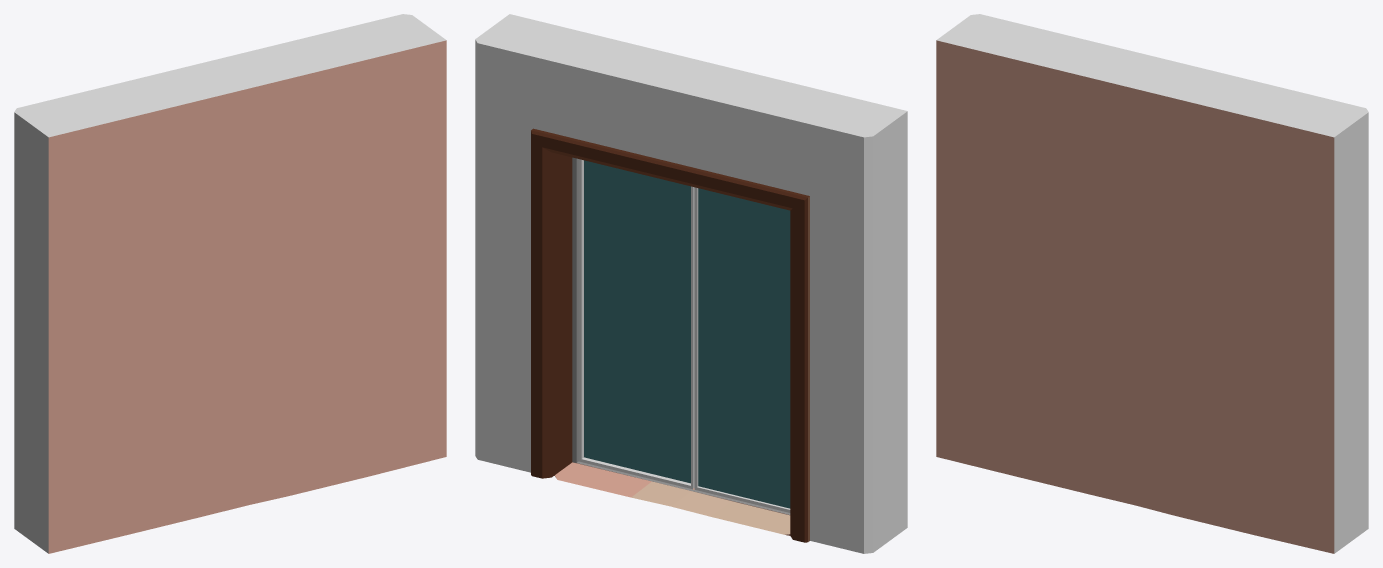
File: Enterance_Door.fbx
The picture shows the model from 3 angles, left to right: view 1: azimuth 30°, elevation 25°; view 2: azimuth 150°, elevation 25°; view 3: azimuth 330°, elevation 25°; orthographic projection.
Parts seen in each view (by area): view 1: Enterance_Door; view 2: Enterance_Door; view 3: Enterance_Door.
Part boxes in pixels (x1,y1,x2,y2): Enterance_Door: (14, 14, 446, 553); Enterance_Door: (475, 14, 907, 553); Enterance_Door: (936, 14, 1368, 553).
Size of the model in its own units: 400 by 401 by 71.67.
2 materials, 2 textured.
